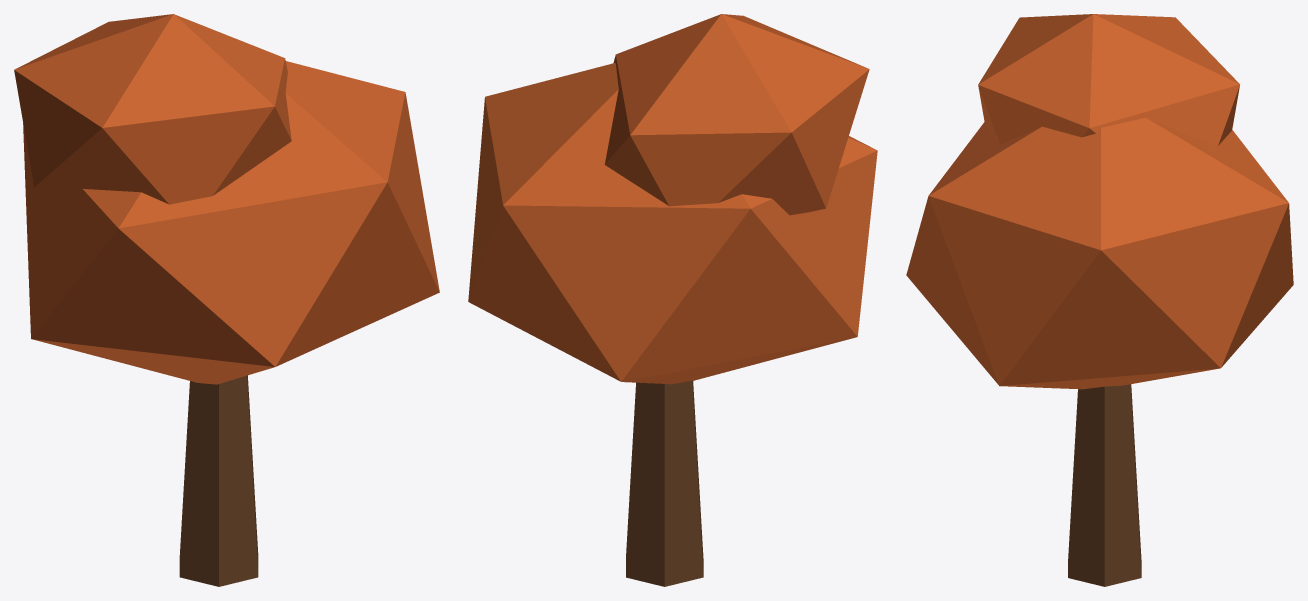
File: tree_maple.glb
The picture shows the model from 3 angles, left to right: view 1: azimuth 30°, elevation 25°; view 2: azimuth 150°, elevation 25°; view 3: azimuth 270°, elevation 25°; orthographic projection. The views are drawn at different scales.
Visible parts, largest first — view 1: tree_maple; view 2: tree_maple; view 3: tree_maple.
Boxes of the visible parts, x1,y1,x2,y2 form: tree_maple: (14,14,439,586); tree_maple: (468,14,877,586); tree_maple: (906,14,1293,586).
Size of the model in its own units: 2.48 by 3.6 by 2.38.
